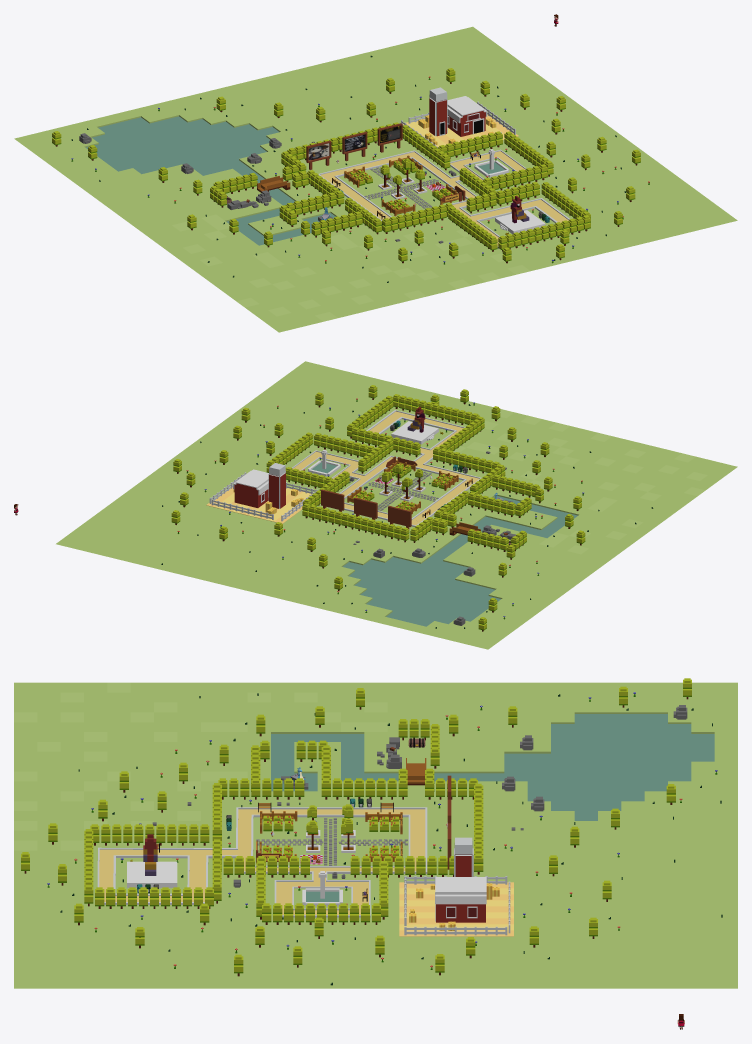
File: proyectoThree.glb
3 renders of one model, top to bottom at view 1: azimuth 30°, elevation 25°; view 2: azimuth 150°, elevation 25°; view 3: azimuth 270°, elevation 25°, orthographic. The views are drawn at different scales.
Parts seen in each view (by area): view 1: level, path, tree.015, tree.011, tree.001, tree.002, windmill, stones, tree.014, tree.005, tree.003, tree.019 (+13 smaller); view 2: level, path, tree.006, tree.015, stones, tree.011, farm fences, tree.001, windmill, tree.018, tree.013, tree.003 (+11 smaller); view 3: level, path, stones, tree.013, tree.003, tree.014, tree.005, tree.008, farm fences, tree.009, ceiling, tree.004 (+11 smaller).
Part boxes in pixels (bbox=[...]): level: bbox=[14, 26, 737, 332]; path: bbox=[318, 149, 569, 248]; tree.015: bbox=[498, 215, 590, 251]; tree.011: bbox=[382, 203, 453, 233]; tree.001: bbox=[483, 164, 547, 190]; tree.002: bbox=[438, 131, 502, 158]; windmill: bbox=[429, 87, 447, 136]; stones: bbox=[403, 114, 518, 146]; tree.014: bbox=[448, 206, 497, 251]; tree.005: bbox=[402, 125, 450, 170]; tree.003: bbox=[504, 131, 553, 176]; tree.019: bbox=[311, 211, 362, 237]; level: bbox=[56, 361, 737, 649]; path: bbox=[292, 410, 481, 526]; tree.006: bbox=[302, 503, 409, 542]; tree.015: bbox=[392, 394, 479, 424]; stones: bbox=[206, 487, 311, 523]; tree.011: bbox=[433, 447, 500, 473]; farm fences: bbox=[209, 472, 317, 521]; tree.001: bbox=[314, 433, 375, 457]; windmill: bbox=[268, 463, 285, 508]; tree.018: bbox=[468, 492, 515, 516]; tree.013: bbox=[347, 395, 393, 438]; tree.003: bbox=[266, 432, 313, 472]; level: bbox=[14, 682, 737, 988]; path: bbox=[97, 807, 427, 917]; stones: bbox=[399, 882, 513, 936]; tree.013: bbox=[95, 887, 213, 908]; tree.003: bbox=[262, 903, 380, 924]; tree.014: bbox=[90, 824, 209, 845]; tree.005: bbox=[350, 856, 453, 877]; tree.008: bbox=[321, 778, 407, 799]; farm fences: bbox=[404, 876, 510, 935]; tree.009: bbox=[218, 778, 304, 799]; ceiling: bbox=[435, 877, 486, 904]; tree.004: bbox=[223, 856, 309, 877].
Bounding box in the file's own units: 362 × 29.03 × 318.
Materials: 84 (3 with a texture image).
